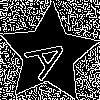A: (24, 29, 79, 83)
